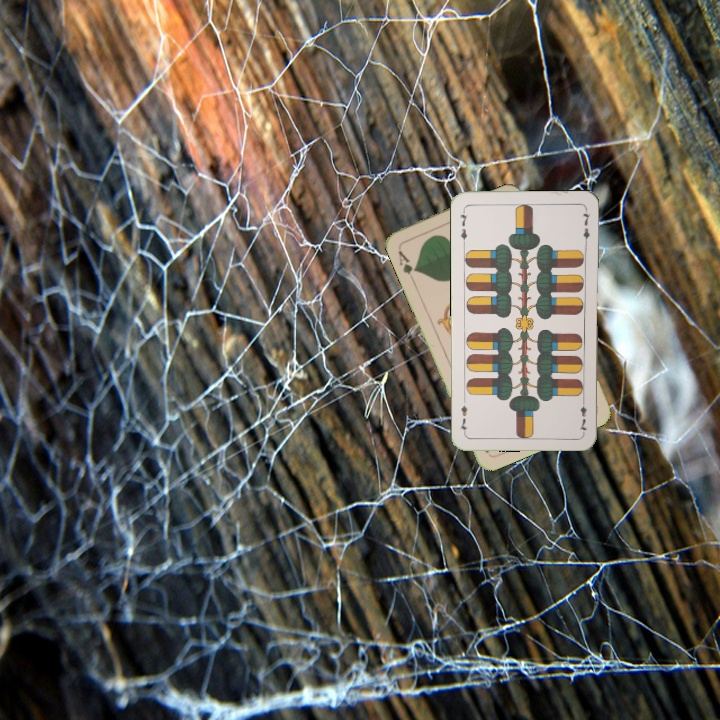E7: (456, 206, 470, 246), (576, 394, 589, 434)
GA: (394, 244, 419, 283)
